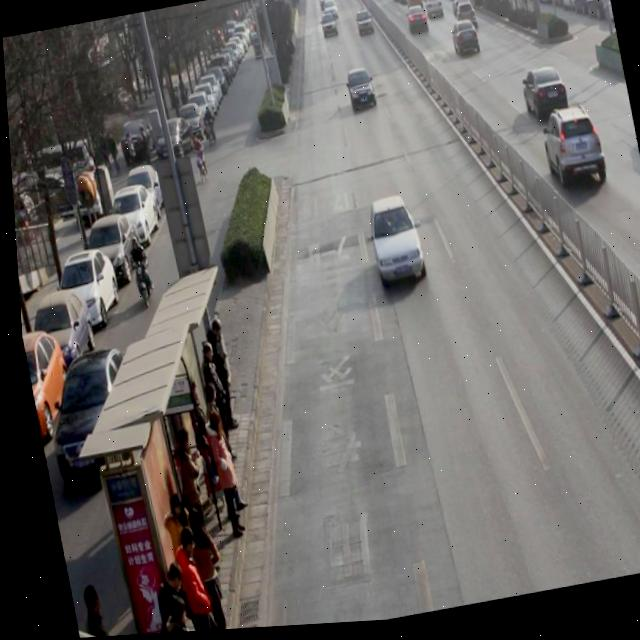car: (33, 343, 150, 487), (534, 107, 607, 198), (361, 197, 425, 295), (517, 69, 570, 129), (343, 69, 377, 119), (448, 24, 481, 66), (404, 7, 429, 39), (355, 12, 375, 44), (447, 0, 471, 22), (424, 0, 444, 25), (319, 15, 337, 42), (455, 6, 476, 29), (321, 1, 339, 27)
